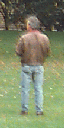person: (14, 11, 51, 116)
